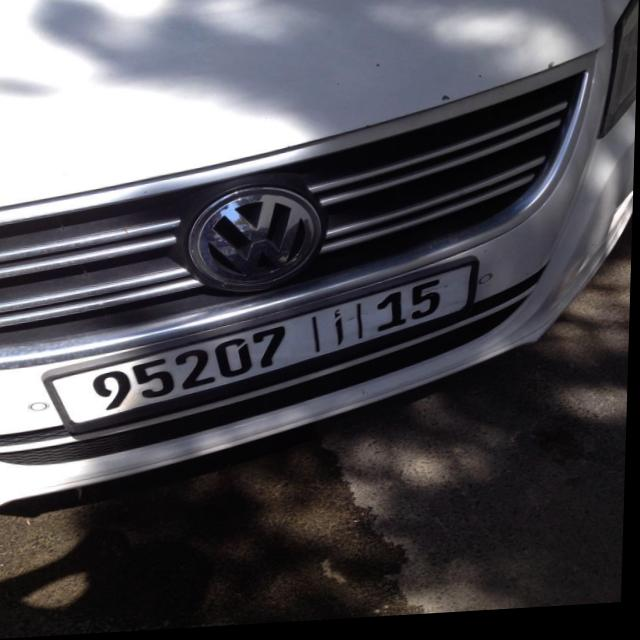License-Plate: (51, 272, 475, 427)
